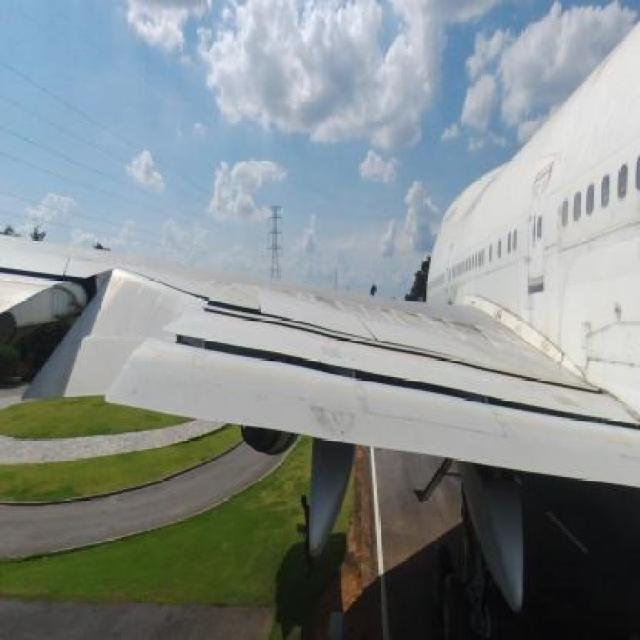Scartch: (294, 391, 381, 443), (584, 346, 640, 377), (554, 263, 586, 292)
